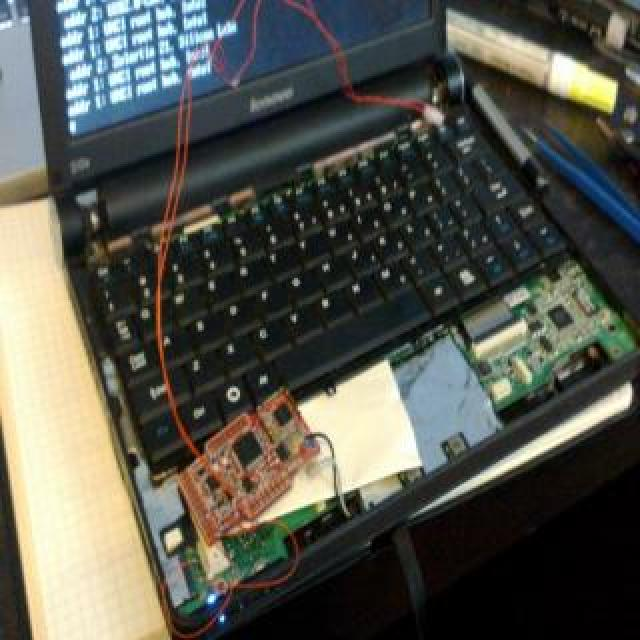laptop_computer: (25, 1, 564, 396)
